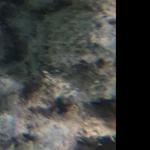dead: (3, 4, 113, 146)
